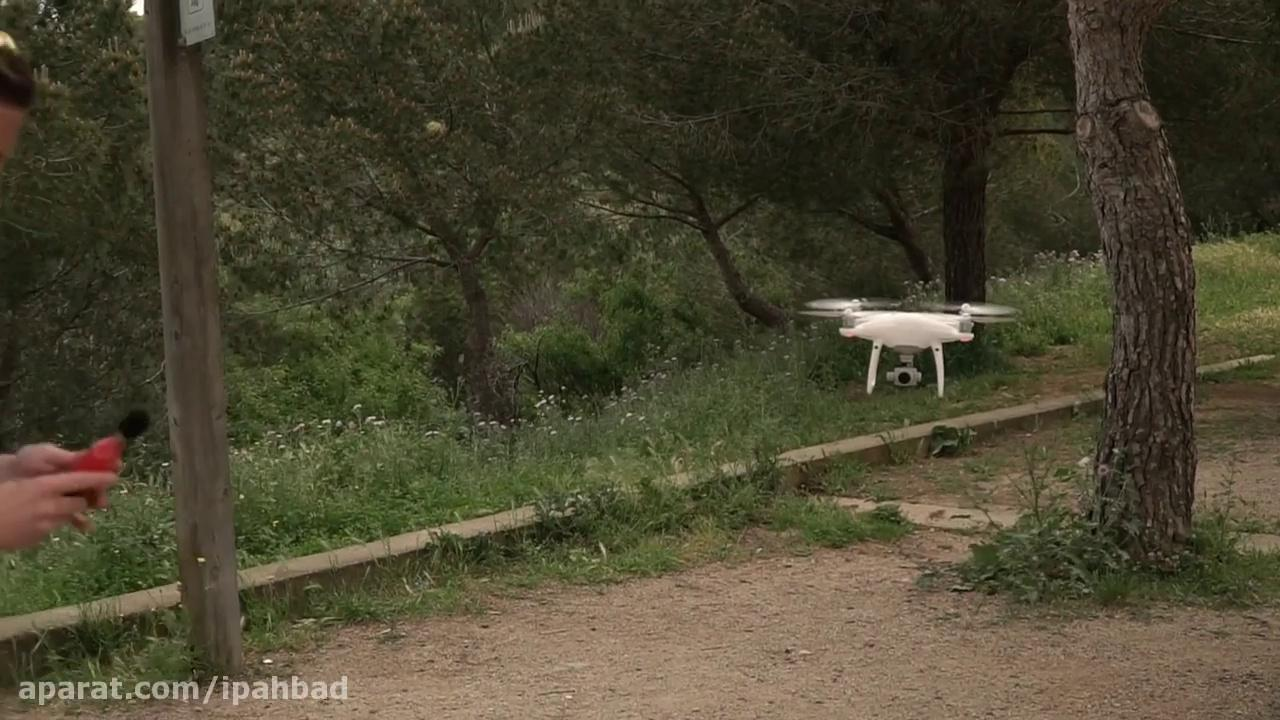drone: (794, 290, 1020, 396)
